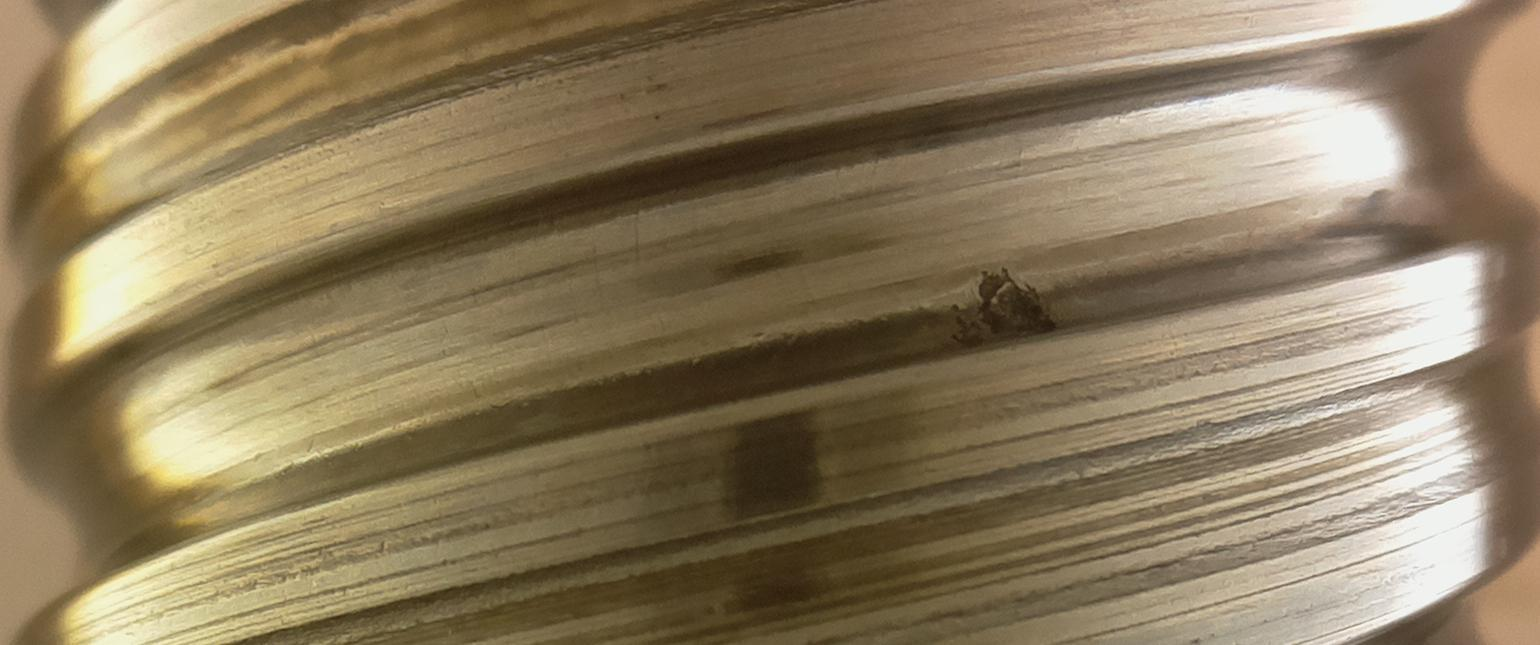pitting: (951, 268, 1056, 346)
